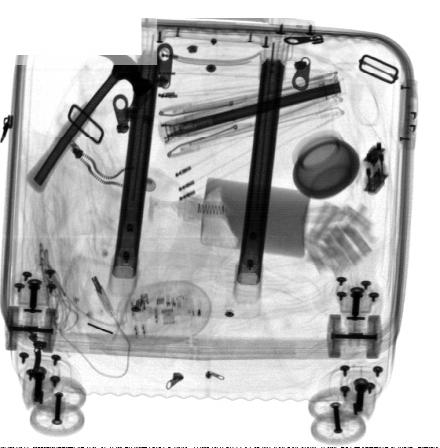Hammer: (26, 50, 152, 193)
